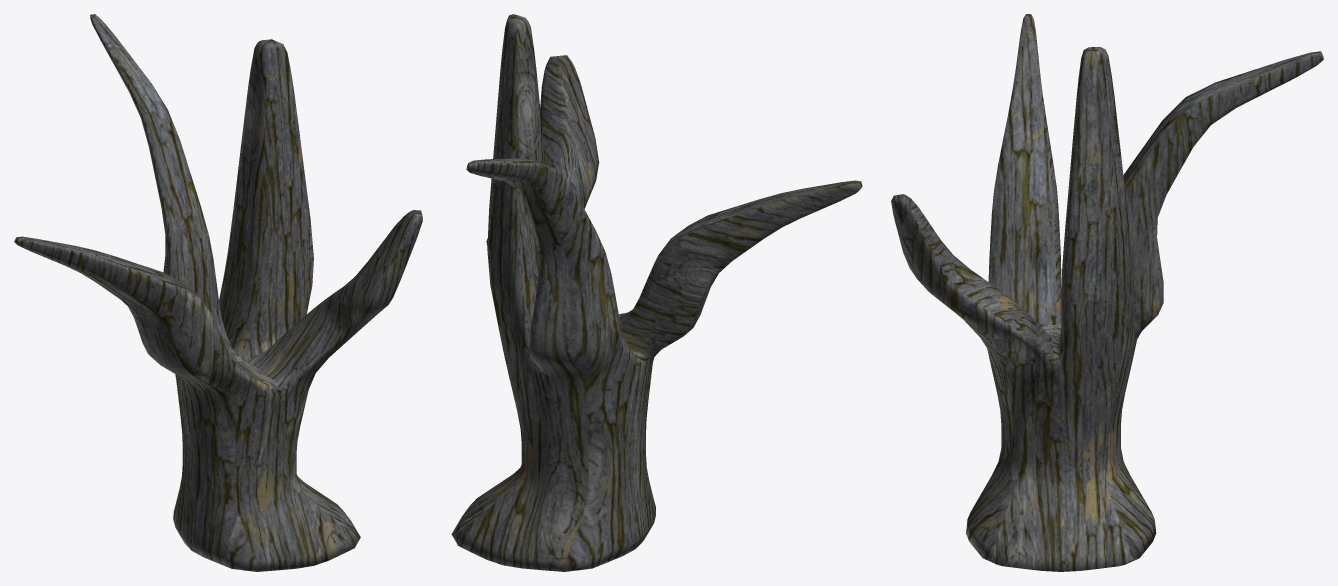
Rendered from bush1.fbx.
3 renders of one model, left to right at view 1: azimuth 30°, elevation 25°; view 2: azimuth 150°, elevation 25°; view 3: azimuth 270°, elevation 25°, orthographic. The views are drawn at different scales.
Parts seen in each view (by area): view 1: Bush_1; view 2: Bush_1; view 3: Bush_1.
Boxes of the visible parts, x1,y1,x2,y2 form: Bush_1: (14, 14, 422, 571); Bush_1: (451, 14, 862, 571); Bush_1: (891, 14, 1323, 571).
Bounding box in the file's own units: 1.85 × 2.43 × 1.92.
